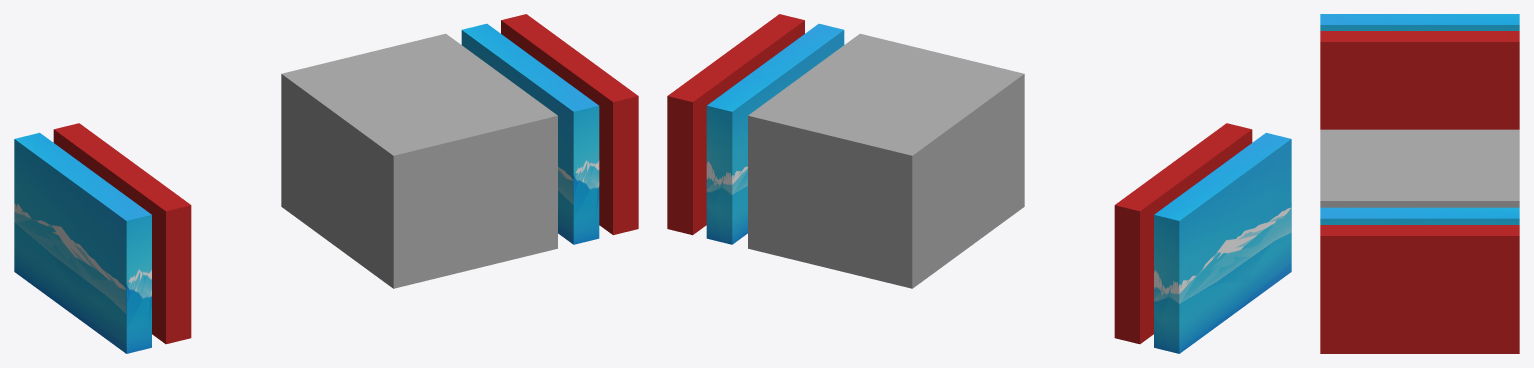
The picture shows the model from 3 angles, left to right: view 1: azimuth 30°, elevation 25°; view 2: azimuth 150°, elevation 25°; view 3: azimuth 270°, elevation 25°; orthographic projection. The views are drawn at different scales.
Bounding box in the file's own units: 3.96 × 0.9828 × 1.5.
Materials: 3 (1 with a texture image).
